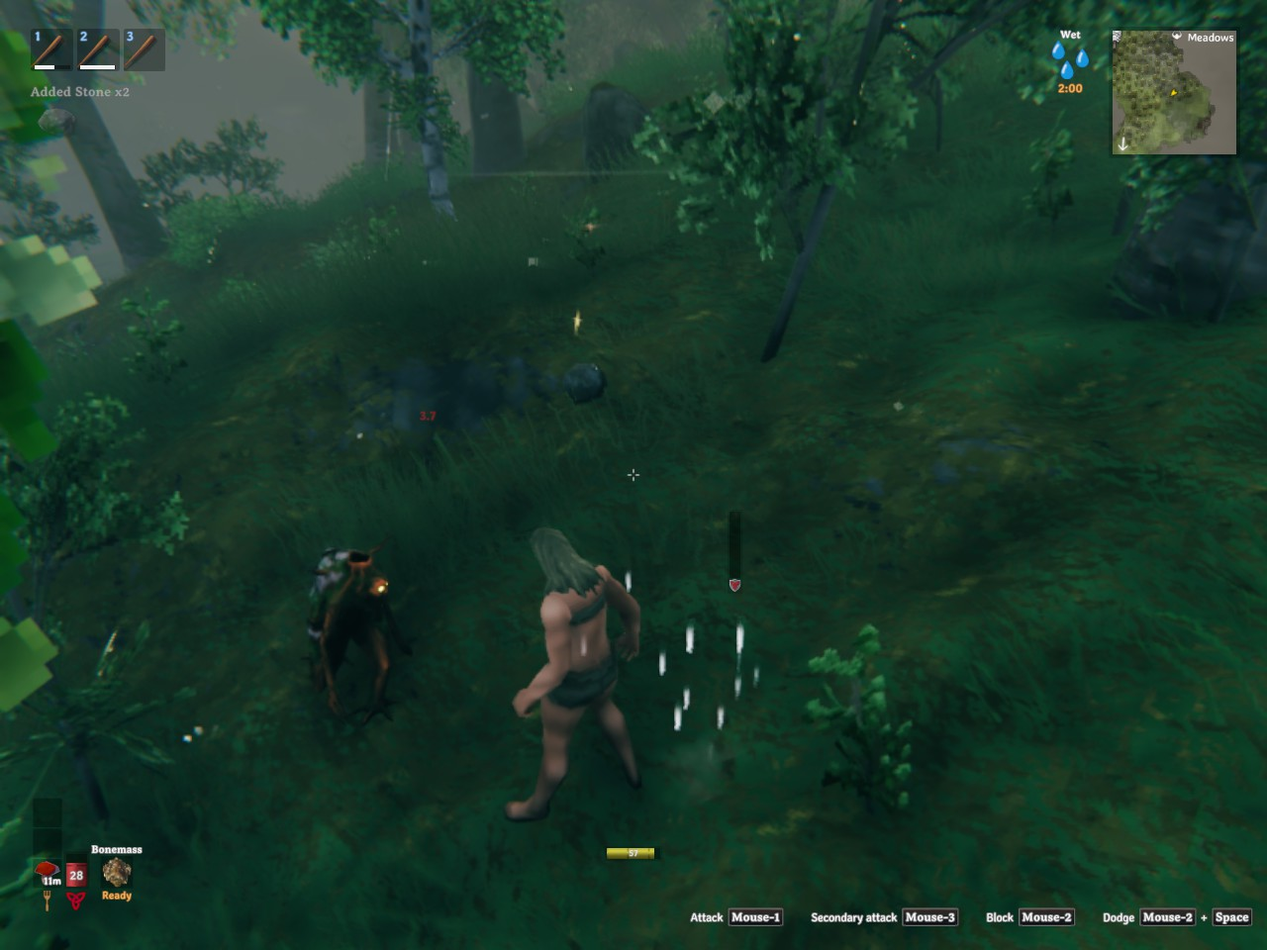Food Indicator: (36, 797, 63, 891)
Greyling: (307, 545, 411, 721)
Health Bar: (63, 820, 90, 891)
Hotbar: (24, 21, 195, 80)
Stamina Bar: (601, 841, 669, 863)
Status Indicator: (1024, 22, 1111, 100)
Stone: (563, 363, 605, 403)
